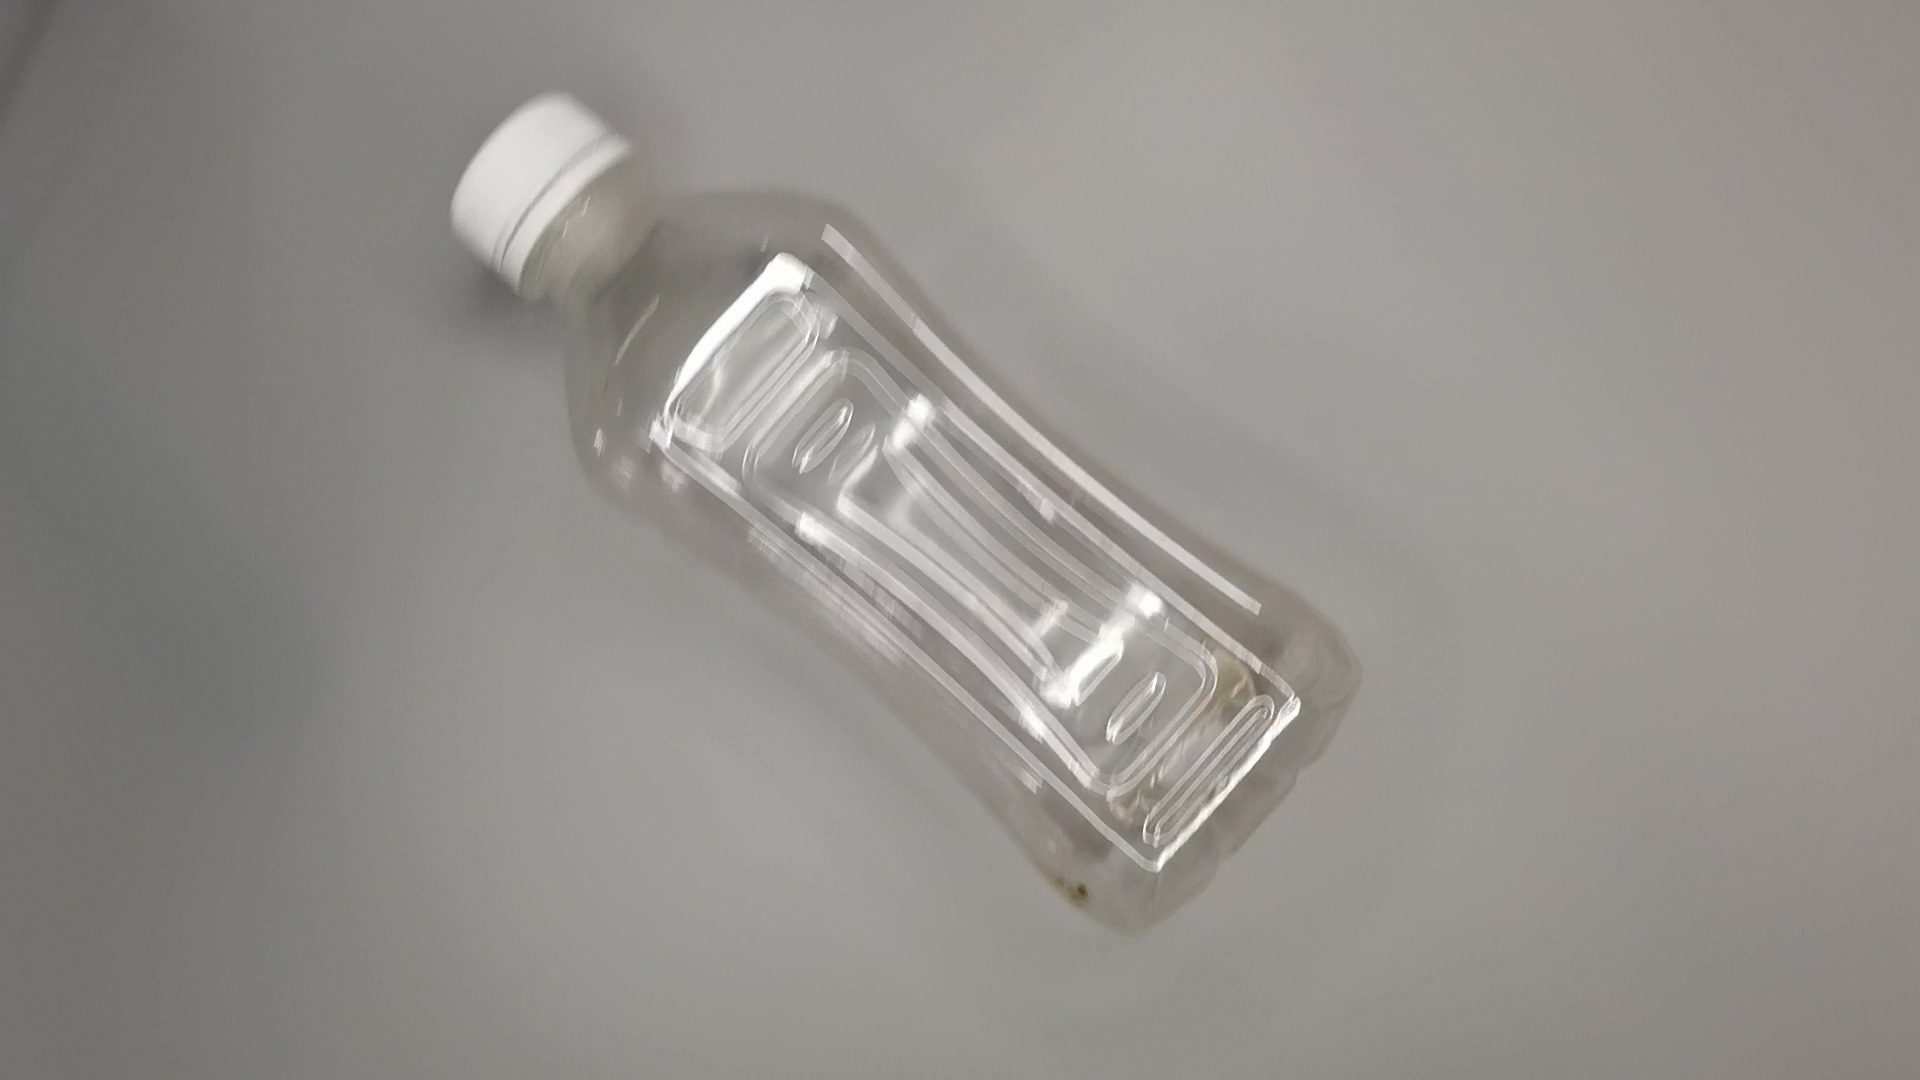bottle: (438, 84, 1382, 953)
